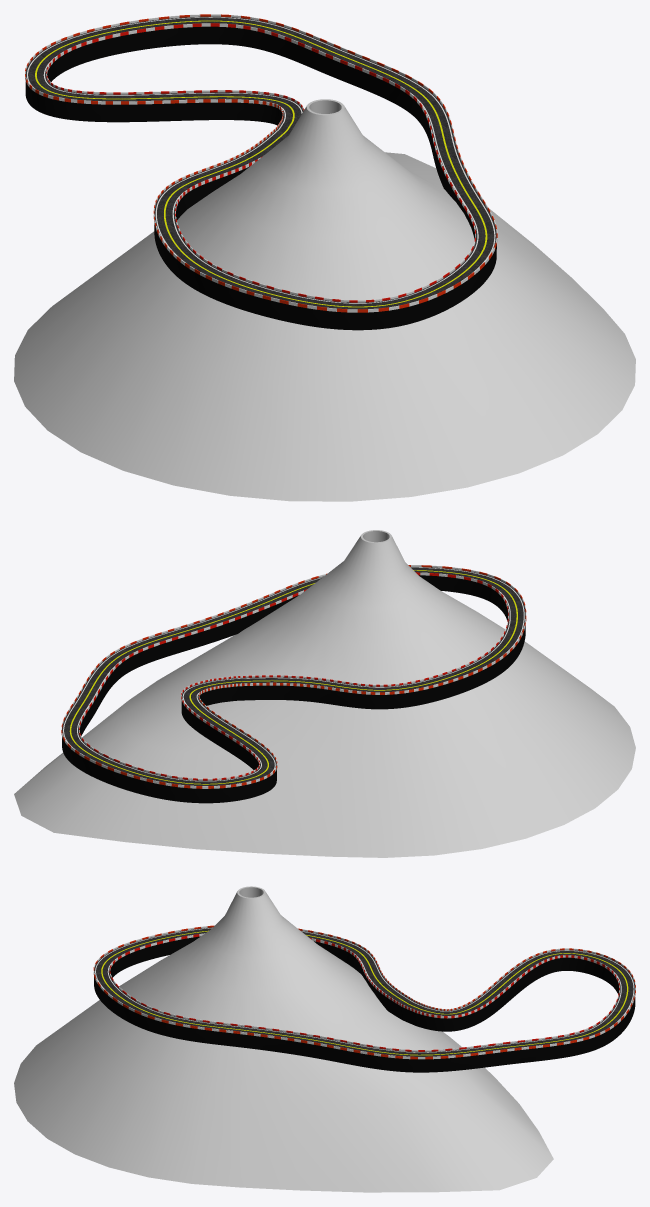
Rendered from Volcano_track.fbx.
The picture shows the model from 3 angles, top to bottom: view 1: azimuth 30°, elevation 25°; view 2: azimuth 150°, elevation 25°; view 3: azimuth 270°, elevation 25°; orthographic projection. The views are drawn at different scales.
Visible parts, largest first — view 1: volcano, NurbsCurve, NurbsCurve.006, NurbsCurve.004; view 2: volcano, NurbsCurve, NurbsCurve.006, NurbsCurve.004; view 3: volcano, NurbsCurve, NurbsCurve.006, NurbsCurve.004.
Boxes of the visible parts, x1,y1,x2,y2 form: volcano: [14, 99, 635, 501]; NurbsCurve: [25, 16, 496, 330]; NurbsCurve.006: [25, 14, 497, 312]; NurbsCurve.004: [46, 23, 475, 302]; volcano: [14, 530, 635, 857]; NurbsCurve: [62, 567, 525, 803]; NurbsCurve.006: [61, 565, 526, 788]; NurbsCurve.004: [79, 572, 508, 780]; volcano: [14, 886, 553, 1192]; NurbsCurve: [94, 927, 635, 1072]; NurbsCurve.006: [93, 925, 635, 1059]; NurbsCurve.004: [109, 933, 619, 1051].
Size of the model in its own units: 8609 by 3863 by 11101.
